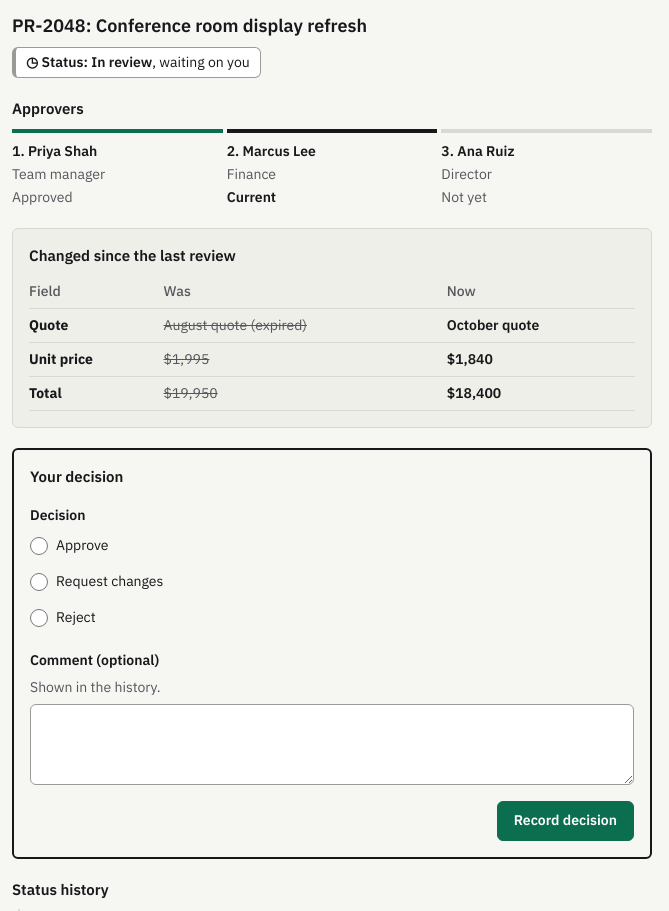
Test: ApprovalWorkflow › requires a reason to reject and focuses the field (edge case)
Step 1. Click the radio button labelled "Reject" → (39, 618), box [30,608,48,626]
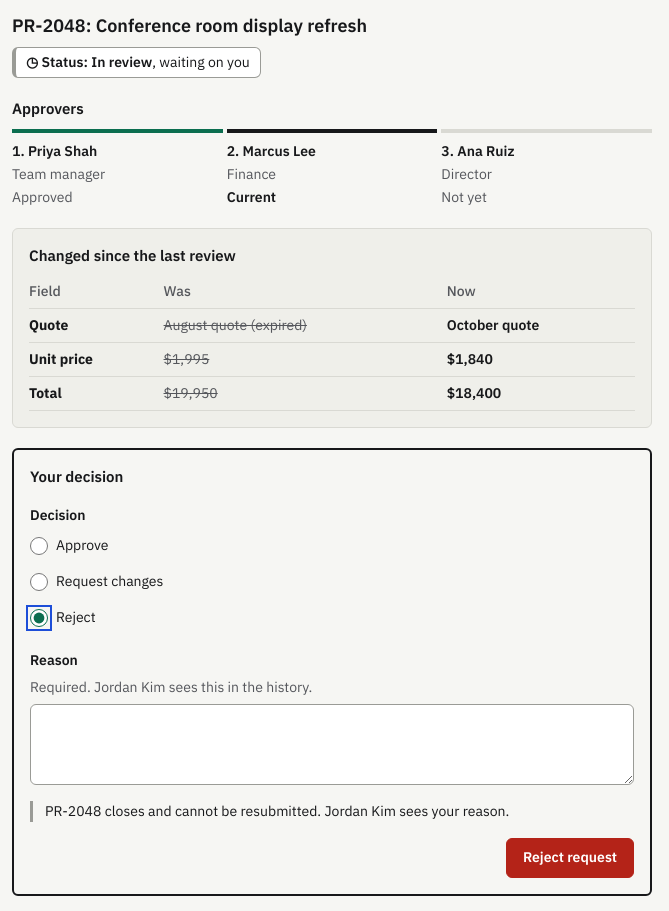
Step 2. Click the button "Reject request" → (570, 858), box [506,838,634,878]
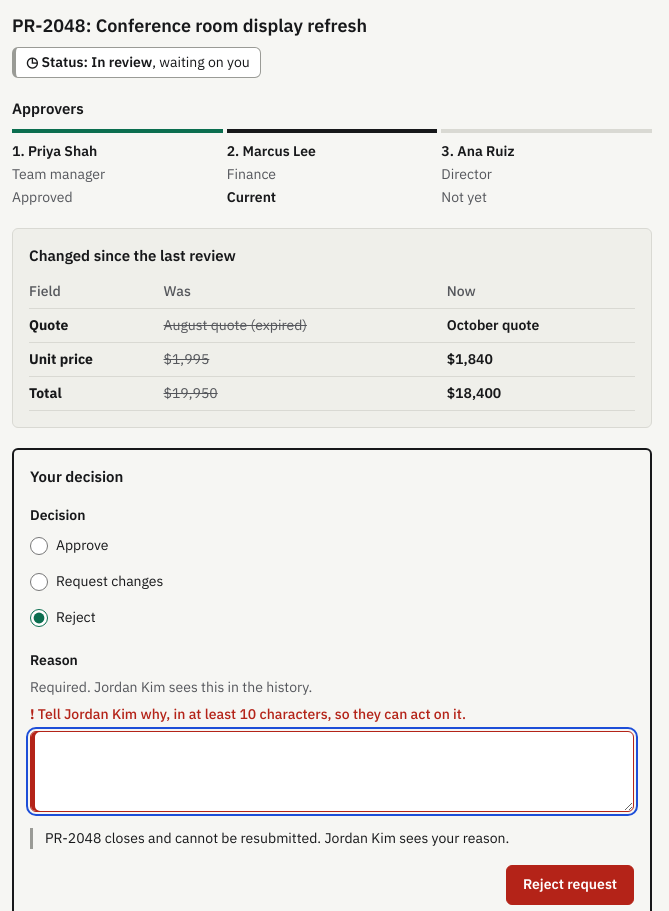
Result: the text box labelled "Reason" is marked as invalid at [30,730,634,812]
